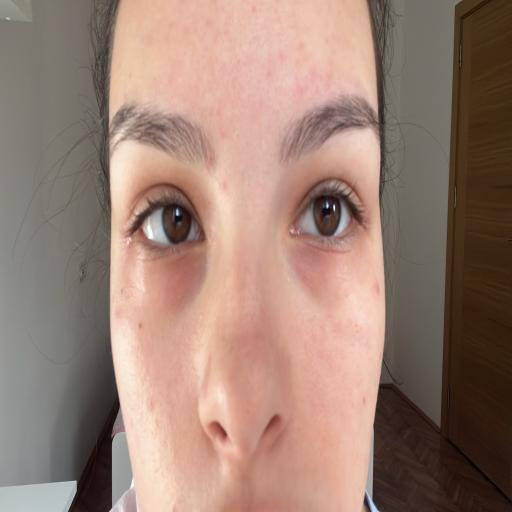marija: (109, 3, 387, 512)
